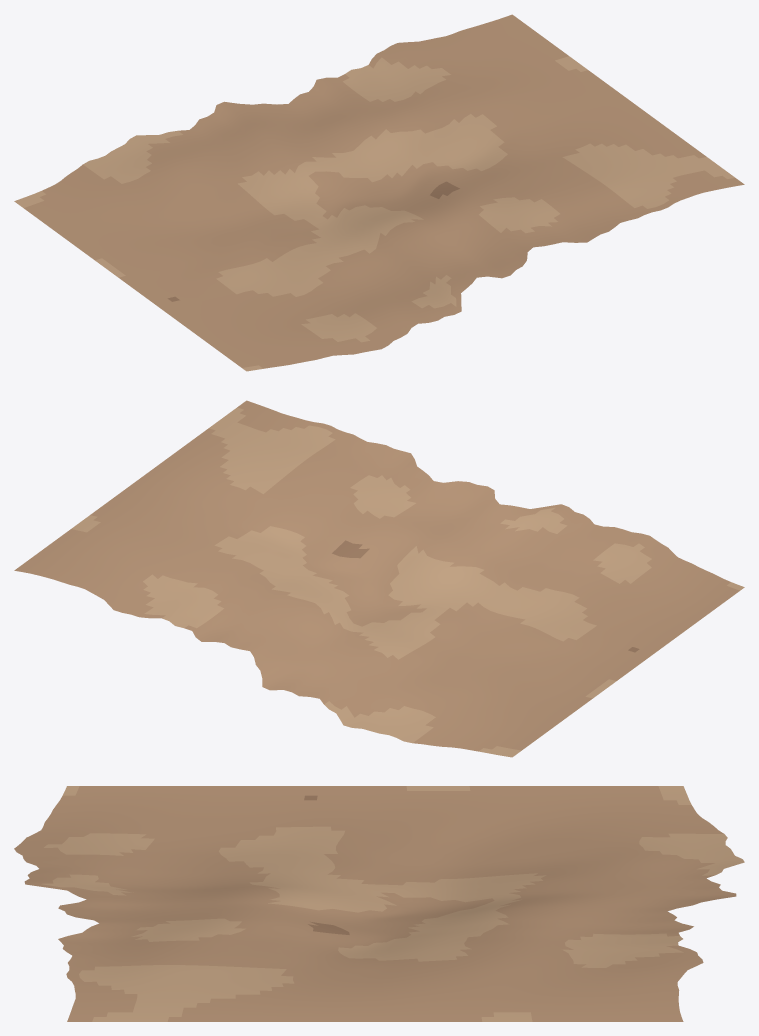
Rendered from SM_CanyonFloor_Rise_3m.glb.
3 views of the same model, one above another, from view 1: azimuth 30°, elevation 25°; view 2: azimuth 150°, elevation 25°; view 3: azimuth 270°, elevation 25° (orthographic). The views are drawn at different scales.
Visible parts, largest first — view 1: SM_CanyonFloor_Rise_3m; view 2: SM_CanyonFloor_Rise_3m; view 3: SM_CanyonFloor_Rise_3m.
Boxes of the visible parts, x1=… form: SM_CanyonFloor_Rise_3m: x1=14, y1=14, x2=744, y2=371; SM_CanyonFloor_Rise_3m: x1=14, y1=400, x2=744, y2=757; SM_CanyonFloor_Rise_3m: x1=14, y1=786, x2=744, y2=1021.
Bounding box in the file's own units: 24 × 3 × 23.
